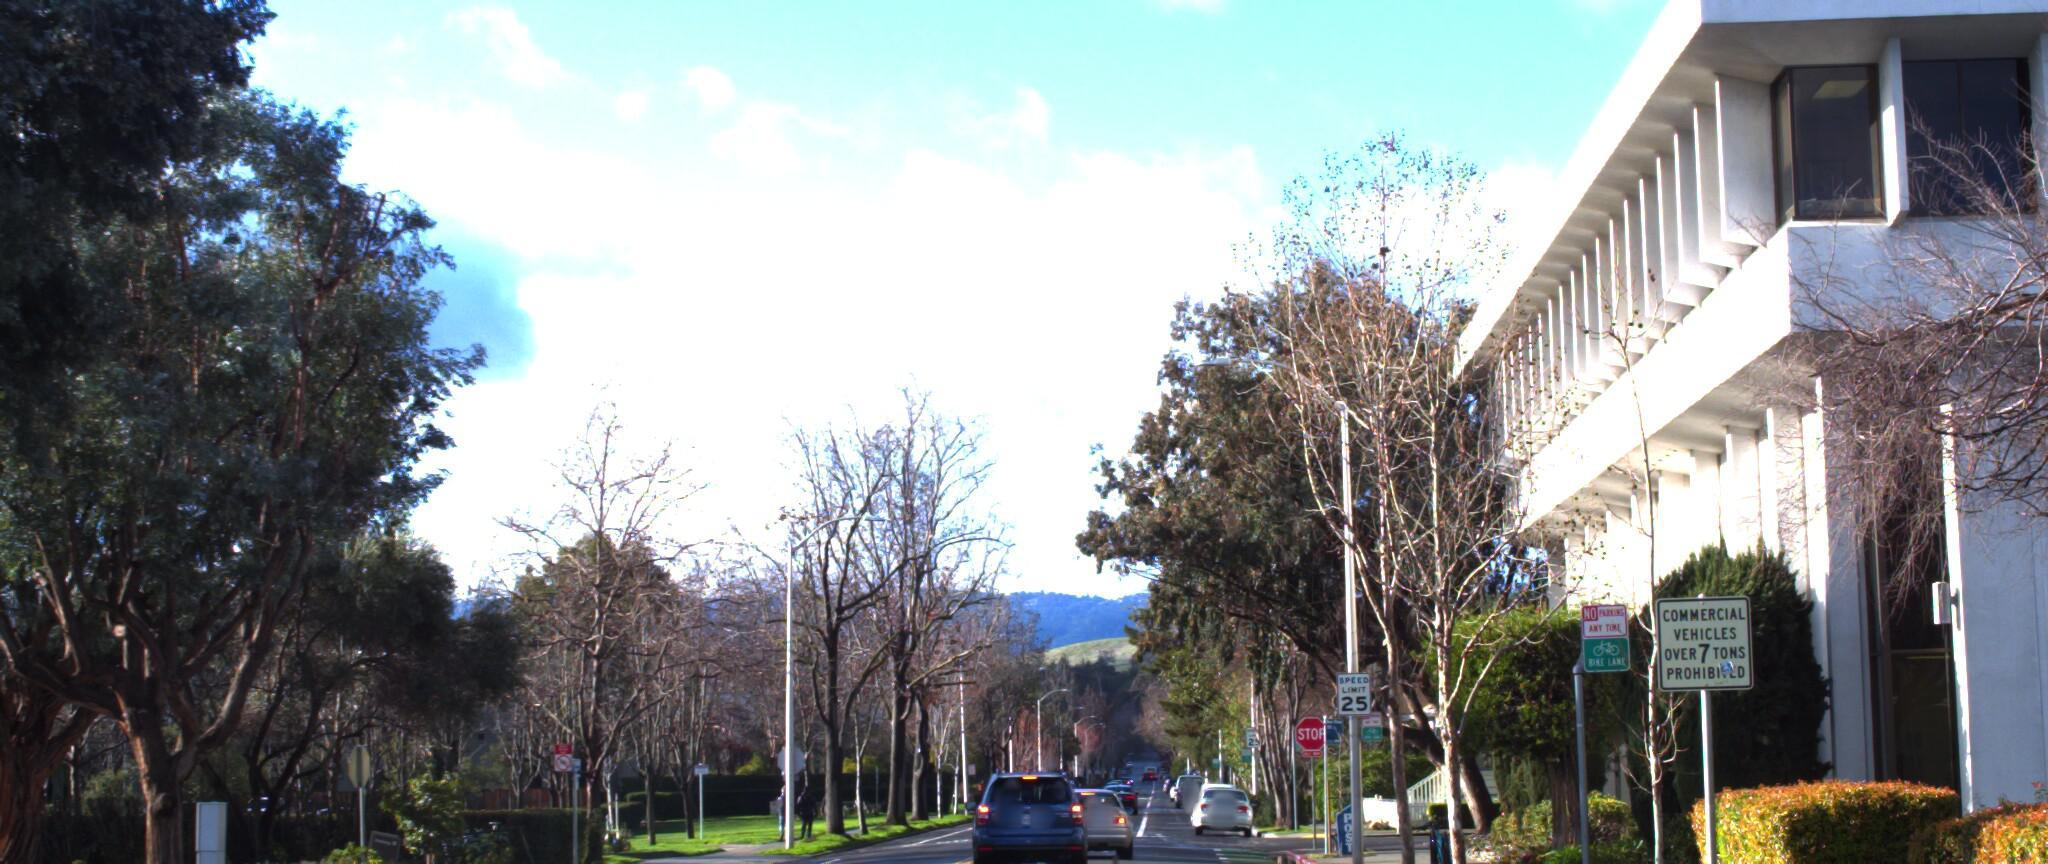car: (969, 760, 1091, 864), (1034, 758, 1131, 847)
